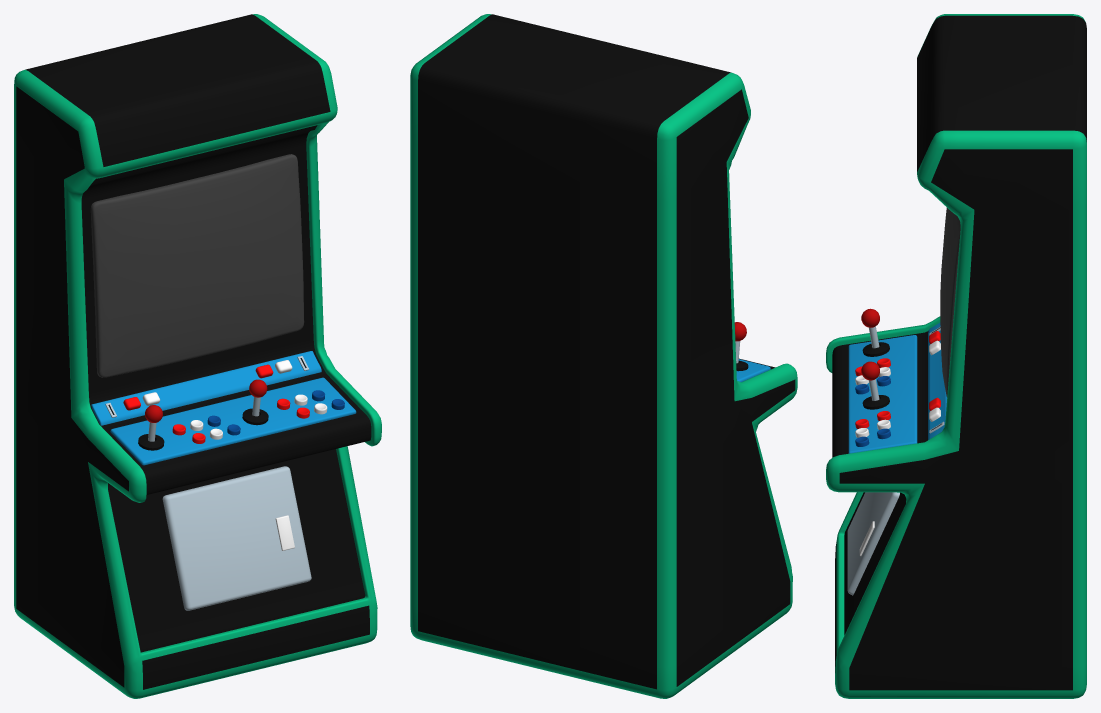
The model's file is Arcade_V2.fbx.
3 renders of one model, left to right at view 1: azimuth 30°, elevation 25°; view 2: azimuth 150°, elevation 25°; view 3: azimuth 270°, elevation 25°, orthographic. The views are drawn at different scales.
Visible parts, largest first — view 1: Arcade_V2; view 2: Arcade_V2; view 3: Arcade_V2.
Part boxes in pixels (bbox=[...]): Arcade_V2: bbox=[14, 14, 381, 698]; Arcade_V2: bbox=[410, 14, 797, 698]; Arcade_V2: bbox=[826, 14, 1086, 698].
Size of the model in its own units: 100 by 209 by 87.11.
